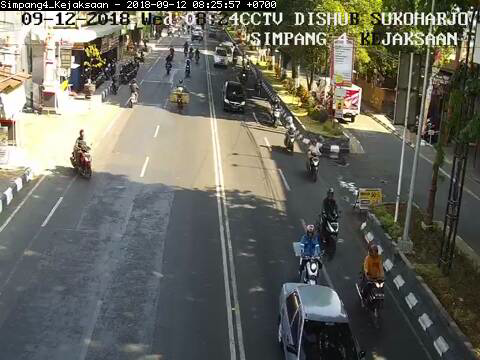motor: (357, 241, 387, 330), (294, 224, 324, 289), (316, 185, 341, 257), (280, 116, 301, 157), (305, 138, 323, 180), (268, 97, 282, 129)
